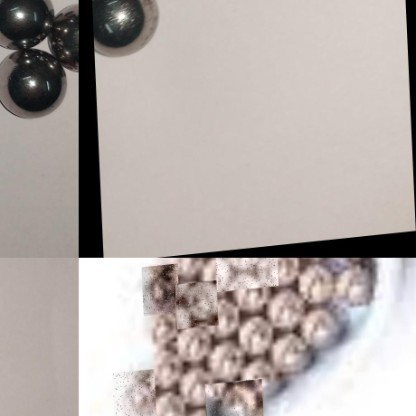ironball: (0, 47, 70, 119), (89, 0, 159, 66), (291, 314, 342, 375), (0, 0, 53, 51), (229, 315, 276, 368), (48, 0, 82, 73), (213, 257, 277, 295), (259, 283, 306, 333), (174, 283, 217, 331), (240, 357, 286, 401), (294, 264, 336, 312), (176, 325, 227, 363), (334, 264, 376, 310), (203, 382, 261, 415), (111, 371, 154, 415), (141, 266, 178, 317), (172, 371, 213, 409), (230, 257, 273, 290)
